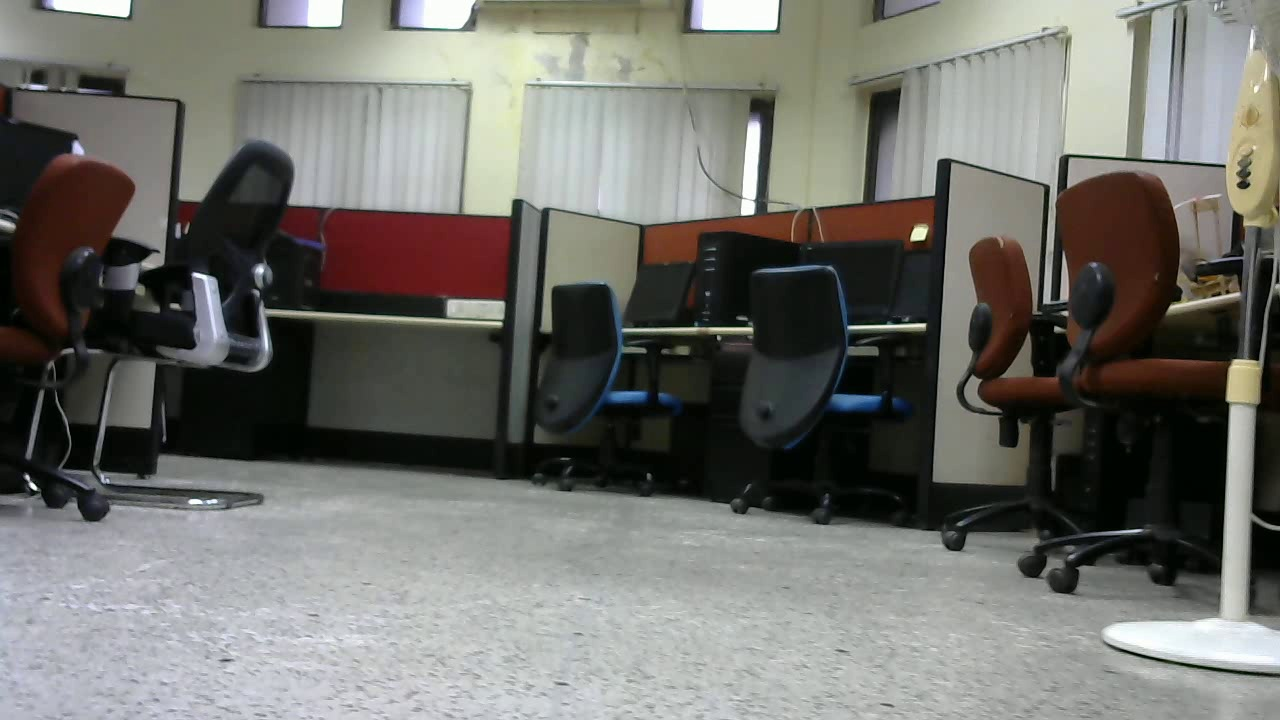chair: (1036, 163, 1248, 591), (135, 137, 304, 519), (713, 265, 914, 530), (942, 235, 1102, 558), (15, 155, 129, 521), (520, 284, 691, 487)
